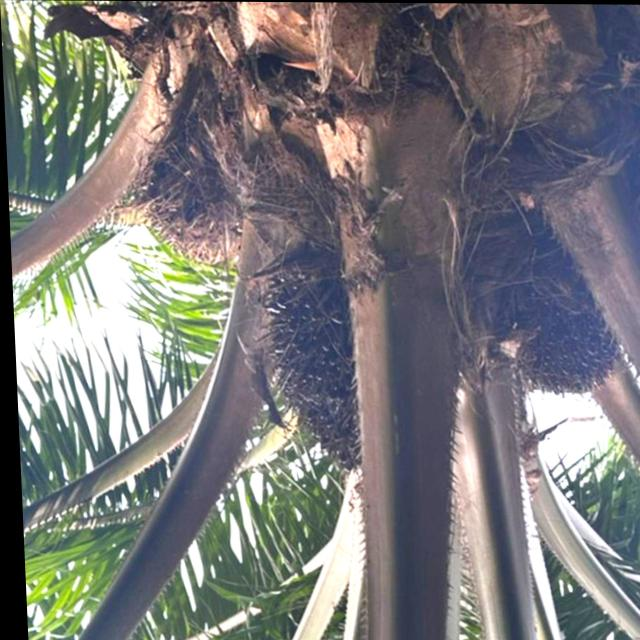almost: (237, 243, 384, 481)
